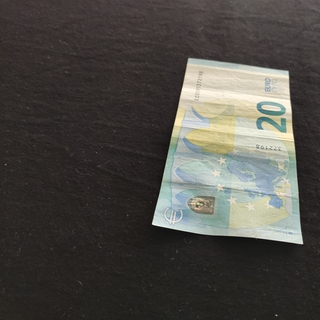20EUROBack: (151, 57, 303, 246)
